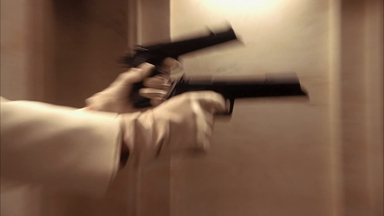firearm: (119, 22, 247, 110), (166, 70, 313, 121)
